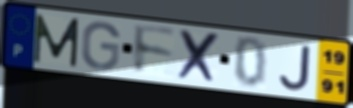0: (233, 36, 270, 90)
F: (131, 22, 178, 77)
G: (79, 20, 122, 72)
J: (277, 43, 314, 93)
M: (32, 12, 82, 69)
X: (176, 28, 223, 86)
